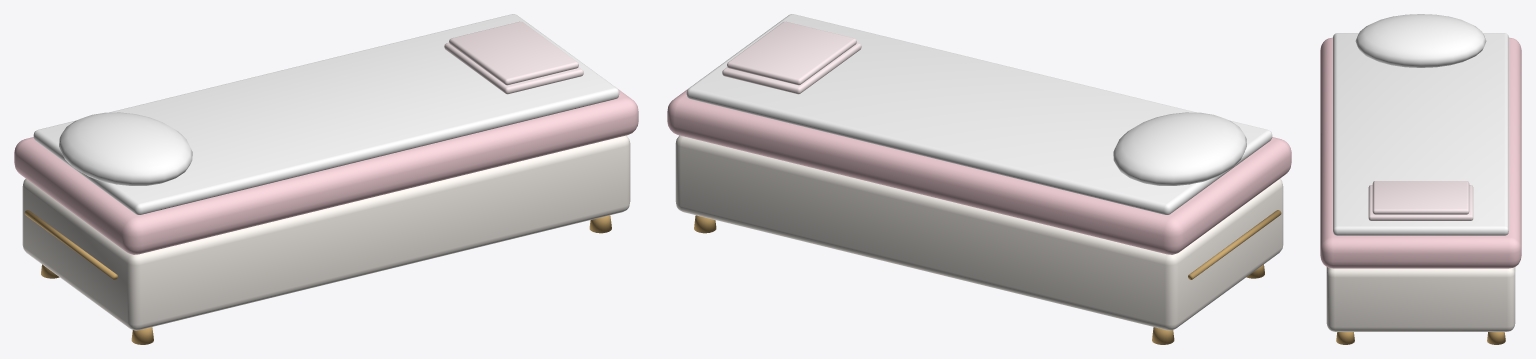
File: care_bed.glb
The picture shows the model from 3 angles, left to right: view 1: azimuth 30°, elevation 25°; view 2: azimuth 150°, elevation 25°; view 3: azimuth 270°, elevation 25°; orthographic projection. The views are drawn at different scales.
Visible parts, largest first — view 1: Cone; view 2: Cone; view 3: Cone.
Part boxes in pixels (x1=…): Cone: x1=14, y1=14, x2=638, y2=344; Cone: x1=667, y1=14, x2=1291, y2=344; Cone: x1=1320, y1=14, x2=1521, y2=344.
Size of the model in its own units: 2.36 by 0.745 by 0.96.
